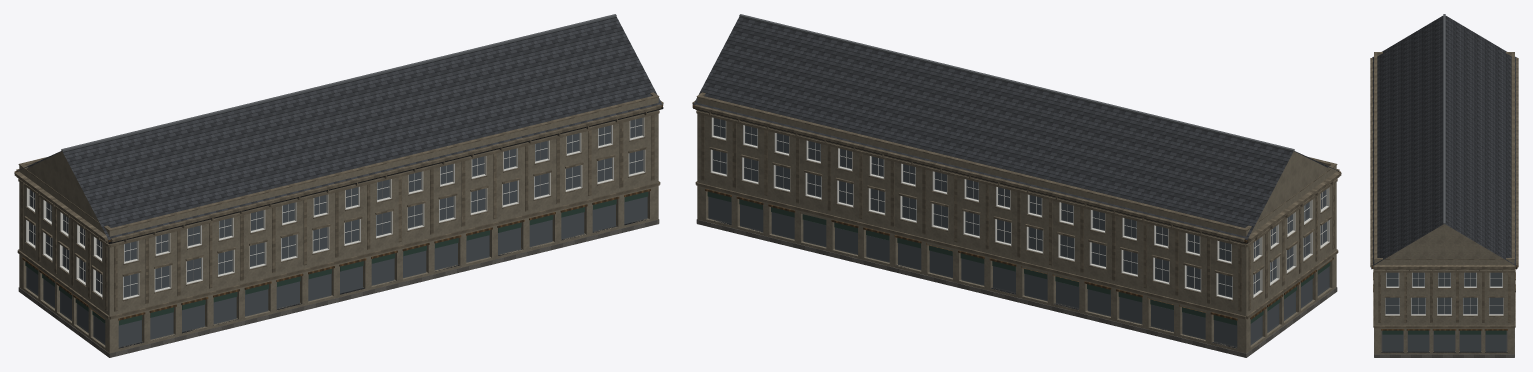
Rendered from A_office_row2.glb.
3 renders of one model, left to right at view 1: azimuth 30°, elevation 25°; view 2: azimuth 150°, elevation 25°; view 3: azimuth 270°, elevation 25°, orthographic. The views are drawn at different scales.
Visible parts, largest first — view 1: A_office_row2; view 2: A_office_row2; view 3: A_office_row2.
Part boxes in pixels (left/top/right/bottom): A_office_row2: left=14, top=14, right=663, bottom=357; A_office_row2: left=692, top=14, right=1341, bottom=357; A_office_row2: left=1370, top=14, right=1518, bottom=357.
Size of the model in its own units: 56.98 by 17.11 by 16.98.
Materials: 14 (9 with a texture image).
